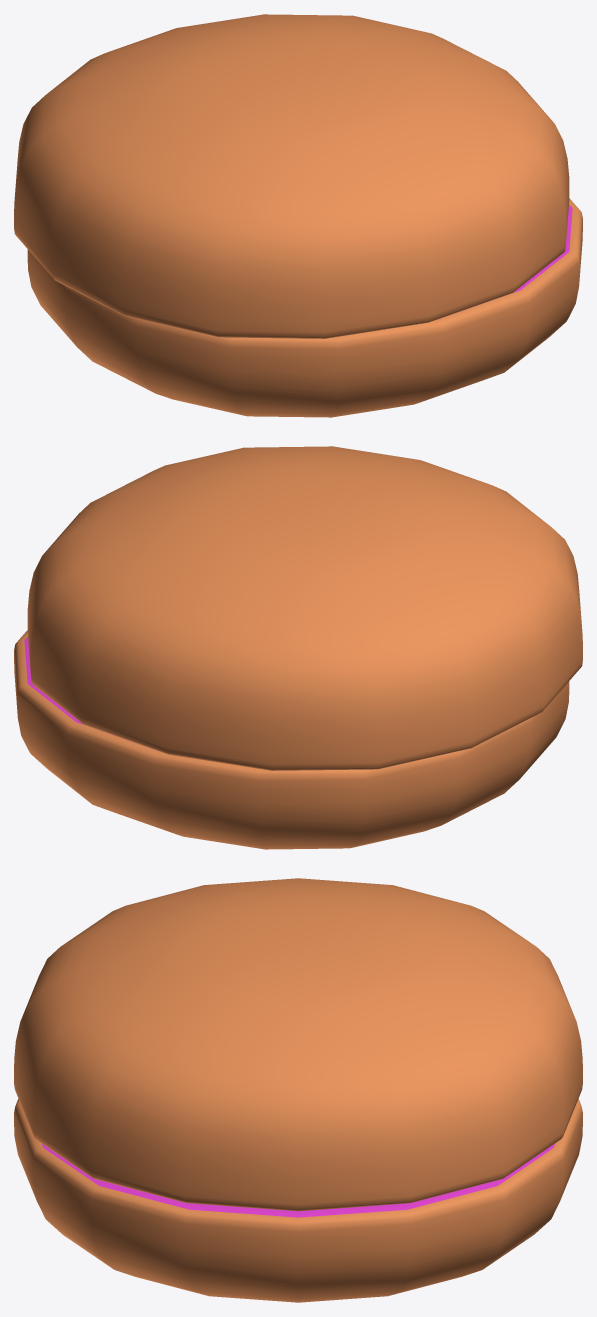
The model's file is BurgerBun.fbx.
3 renders of one model, top to bottom at view 1: azimuth 30°, elevation 25°; view 2: azimuth 150°, elevation 25°; view 3: azimuth 270°, elevation 25°, orthographic. The views are drawn at different scales.
Parts seen in each view (by area): view 1: Cube.016; view 2: Cube.016; view 3: Cube.016.
Boxes of the visible parts, x1,y1,x2,y2 form: Cube.016: (14,14,582,417); Cube.016: (14,446,582,849); Cube.016: (14,878,582,1302).
Size of the model in its own units: 45.3 by 25.54 by 44.05.
